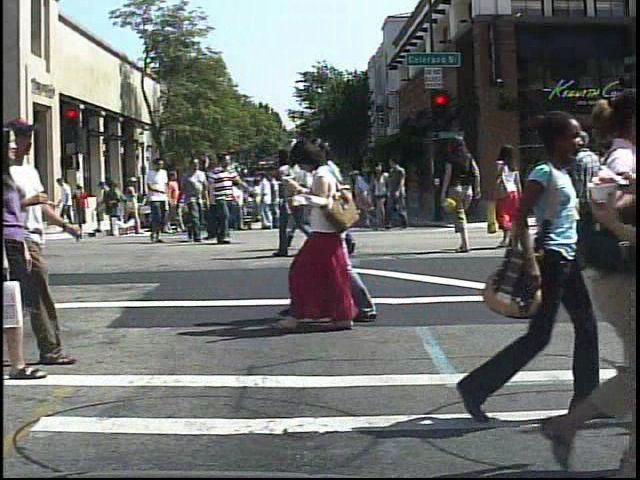person: (6, 107, 84, 369), (278, 136, 368, 338), (313, 129, 386, 329), (563, 118, 604, 270), (272, 134, 318, 264), (597, 132, 636, 273), (438, 134, 484, 249), (487, 141, 532, 257), (316, 150, 361, 260), (284, 141, 327, 250), (204, 152, 242, 246), (180, 155, 216, 248), (583, 146, 616, 246), (140, 155, 172, 246), (121, 173, 143, 241), (74, 182, 94, 229)
